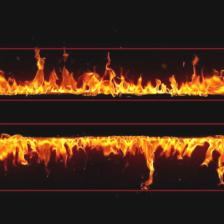fire: (0, 123, 224, 191), (0, 48, 224, 100)
